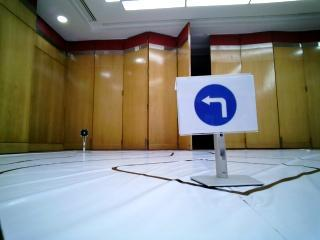left: (183, 80, 252, 127)
